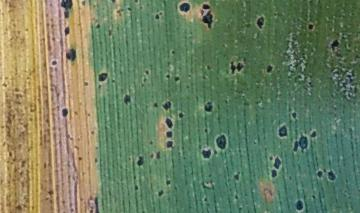tarspot: (197, 9, 217, 29), (213, 132, 229, 154), (57, 1, 74, 19), (292, 196, 309, 213), (199, 146, 216, 162), (64, 46, 79, 64), (200, 99, 218, 114), (177, 1, 192, 18), (253, 14, 267, 31), (276, 123, 290, 140), (146, 150, 164, 163), (328, 37, 342, 53), (298, 134, 311, 151), (93, 71, 110, 83), (162, 114, 174, 130), (227, 60, 238, 76), (273, 155, 284, 171), (160, 99, 173, 112), (327, 169, 339, 183), (135, 153, 147, 167), (232, 171, 244, 185), (304, 21, 319, 32), (268, 168, 280, 181), (315, 169, 327, 182), (162, 129, 176, 140), (199, 1, 214, 11), (290, 140, 302, 152), (164, 140, 176, 152), (123, 93, 133, 107), (59, 107, 71, 118), (156, 189, 167, 201), (309, 128, 320, 139), (264, 64, 274, 76), (160, 71, 172, 81), (62, 24, 71, 37), (236, 61, 245, 74), (75, 152, 85, 163), (290, 109, 299, 121), (230, 193, 243, 201), (172, 74, 181, 85), (163, 176, 172, 187), (48, 59, 60, 67), (170, 46, 177, 59), (132, 182, 141, 192), (177, 110, 186, 120), (143, 67, 153, 76), (140, 77, 151, 85), (203, 126, 211, 137), (201, 195, 210, 204), (82, 80, 90, 90), (93, 23, 104, 30), (266, 153, 275, 161), (151, 102, 161, 109), (106, 1, 121, 5), (154, 14, 161, 22), (131, 1, 142, 5), (323, 166, 328, 174)
